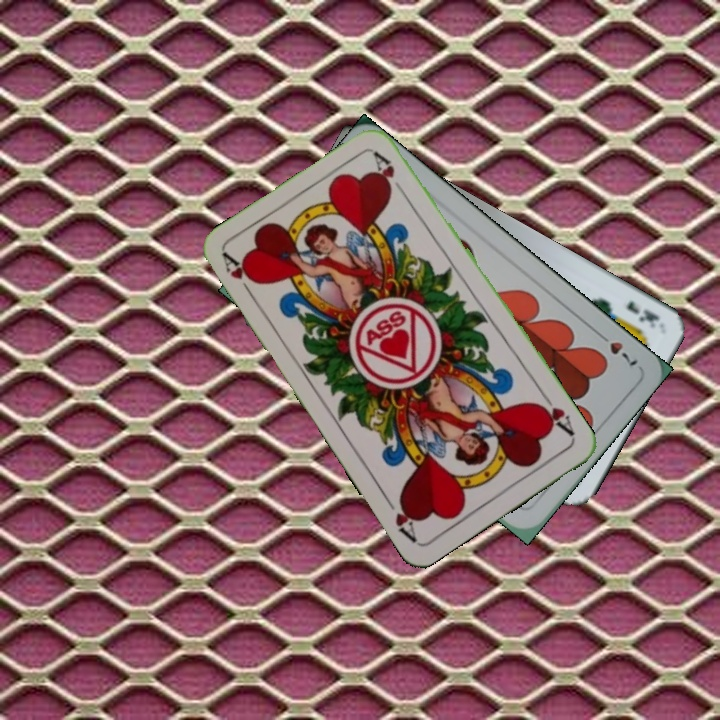EK: (622, 296, 663, 331)
H7: (592, 327, 641, 369)
HA: (218, 249, 262, 303), (532, 388, 578, 439)
